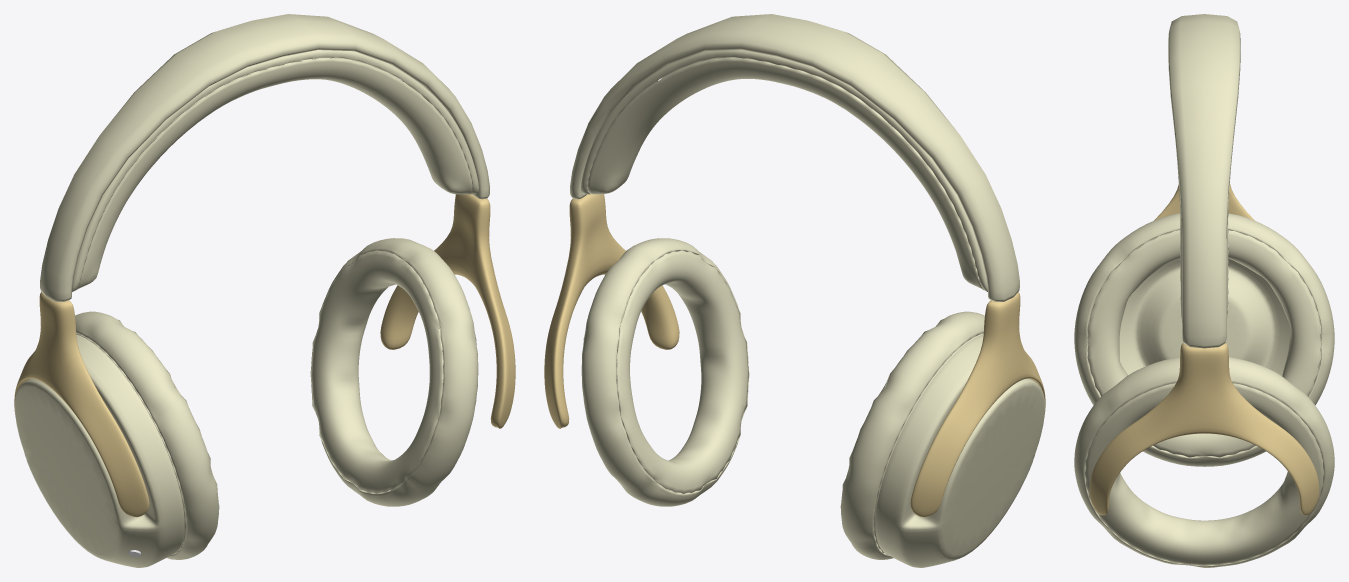
Rendered from LumenNoEarPiece.glb.
3 renders of one model, left to right at view 1: azimuth 30°, elevation 25°; view 2: azimuth 150°, elevation 25°; view 3: azimuth 270°, elevation 25°, orthographic. The views are drawn at different scales.
Parts seen in each view (by area): view 1: Earcup, Cube, EarpieceRight, Joint, Cube.001; view 2: Earcup, Cube, EarpieceRight, Joint, Cube.001; view 3: Earcup, Cube, Joint, EarpieceRight, Cube.001.
Part boxes in pixels (<box>): Earcup: <box>75,238,478,559</box>; Cube: <box>40,14,489,301</box>; EarpieceRight: <box>14,334,184,567</box>; Joint: <box>14,194,515,517</box>; Cube.001: <box>72,50,478,291</box>; Earcup: <box>581,238,984,559</box>; Cube: <box>570,14,1019,301</box>; EarpieceRight: <box>875,334,1045,567</box>; Joint: <box>544,194,1045,517</box>; Cube.001: <box>581,50,987,291</box>; Earcup: <box>1074,213,1334,567</box>; Cube: <box>1168,14,1240,348</box>; Joint: <box>1089,184,1319,515</box>; EarpieceRight: <box>1087,229,1321,375</box>; Cube.001: <box>1176,155,1230,322</box>.
Size of the model in its own units: 4.05 by 4.38 by 2.16.
